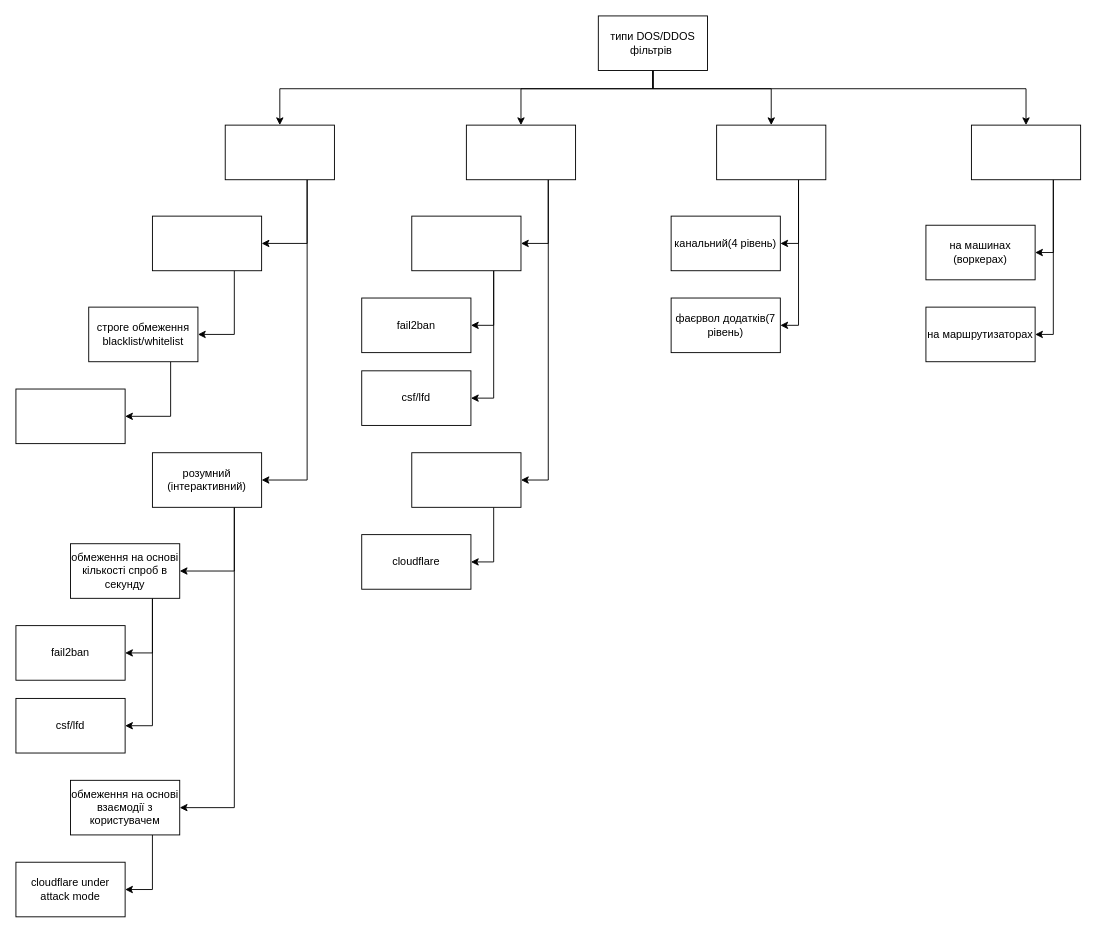
Some shapes in this 1097 by 933 pixel diagram are drawn without their labels. The shapes that lost their labels are listed below. From the top down, each one's centre as x and y in pixels, then its label:
At (279,152): "За типом обробки".
At (520,152): "За інфраструктурним розміщення".
At (771,152): "За рівнем мережевої моделі".
At (1026,152): "За топологічним розміщенням".
At (207,243): "базовий".
At (466,243): "Власна інфраструктура".
At (70,416): "iptables/nftables".
At (466,479): "Стороння інфраструктура".
